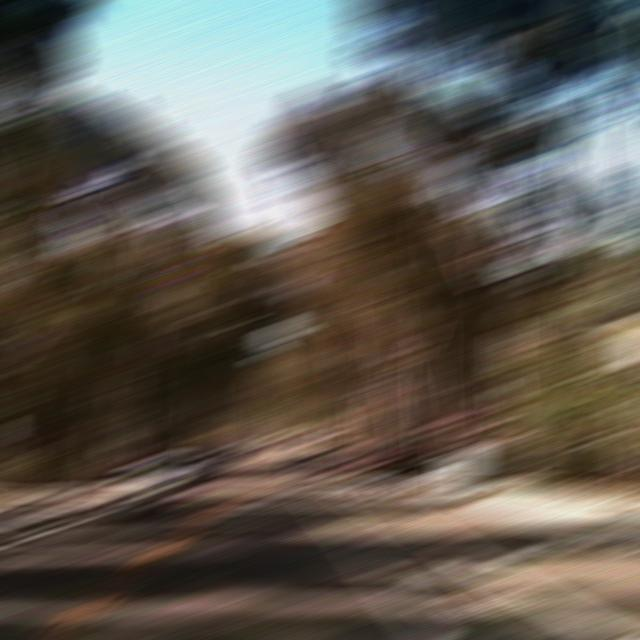stop_sign: (435, 406, 466, 426)
